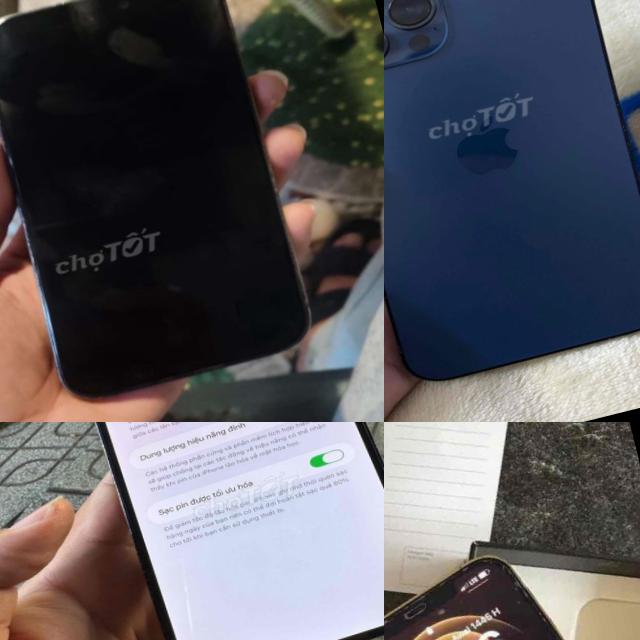gen_12_13: (384, 0, 640, 408), (384, 513, 640, 640)
gen_14: (0, 0, 333, 416), (54, 422, 384, 640)
